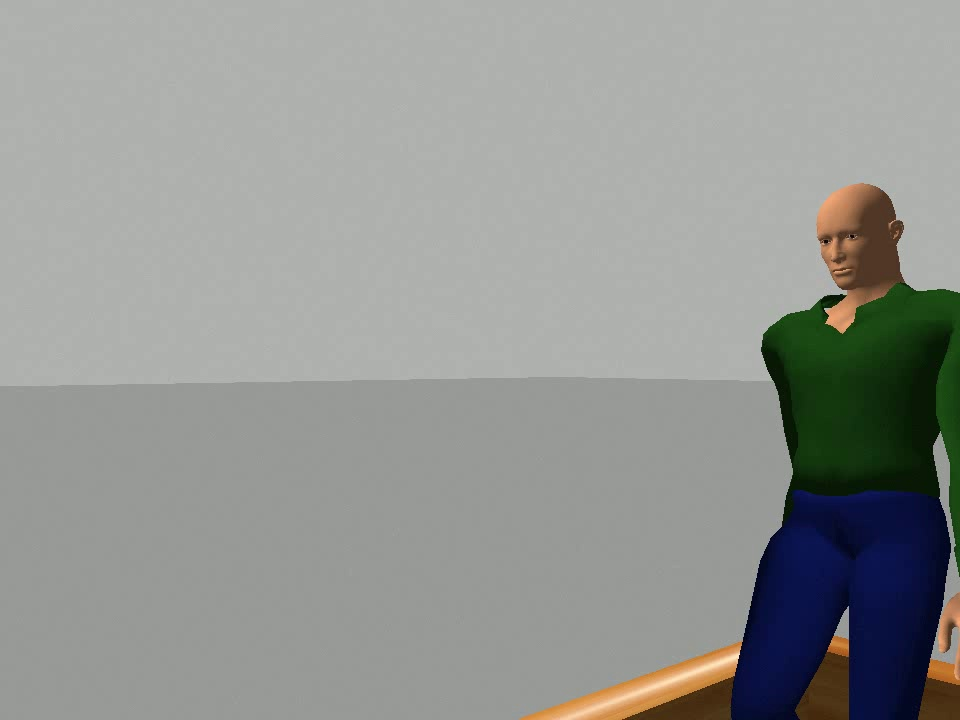person: (718, 180, 960, 720)
